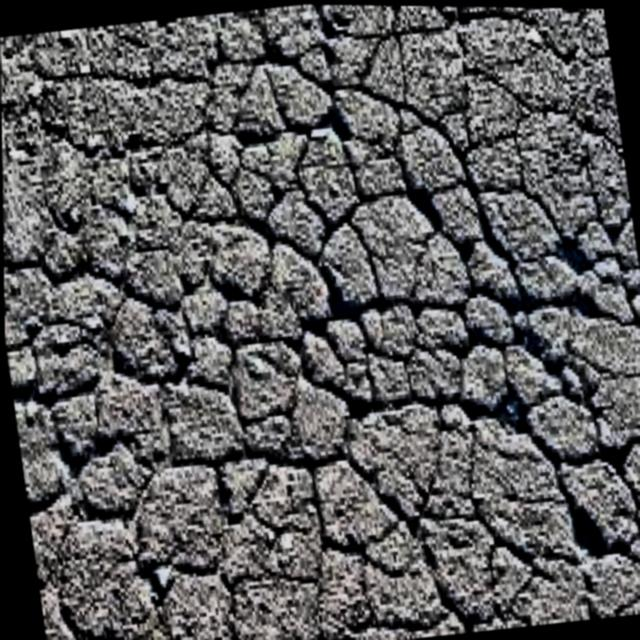alligator_cracks: (4, 4, 640, 630)
